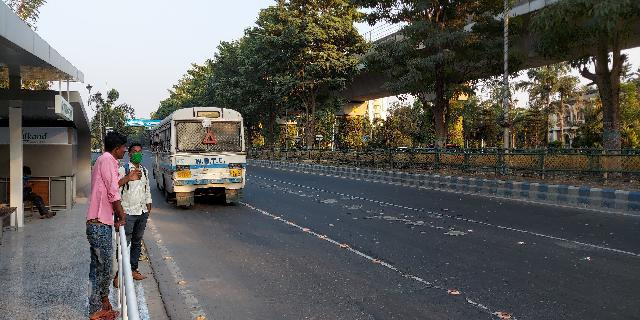Bus: (148, 106, 260, 210)
